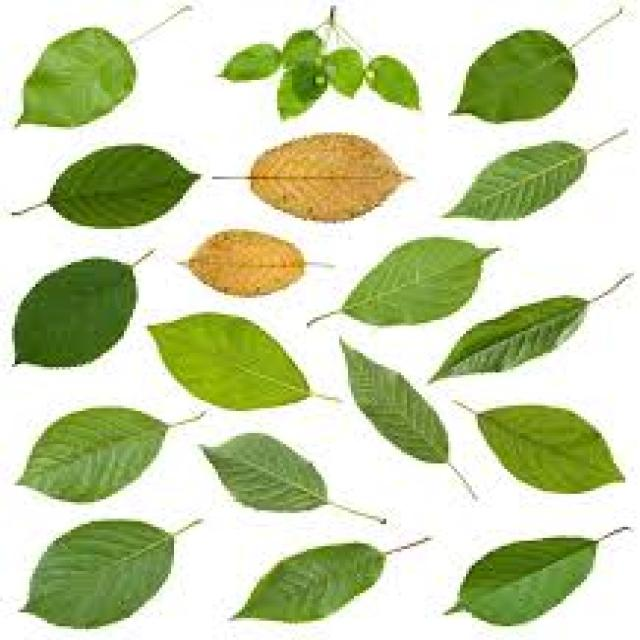leaves: (25, 521, 171, 627), (152, 314, 309, 407), (21, 408, 162, 501), (16, 261, 136, 366), (343, 238, 488, 324), (254, 136, 401, 219), (278, 30, 418, 117), (480, 406, 621, 492), (344, 346, 448, 462), (48, 145, 194, 227), (456, 541, 595, 623), (238, 544, 385, 621), (441, 299, 587, 374), (22, 29, 134, 126), (457, 31, 575, 122), (448, 141, 585, 219), (204, 434, 327, 511), (194, 232, 301, 293), (223, 45, 277, 78)
